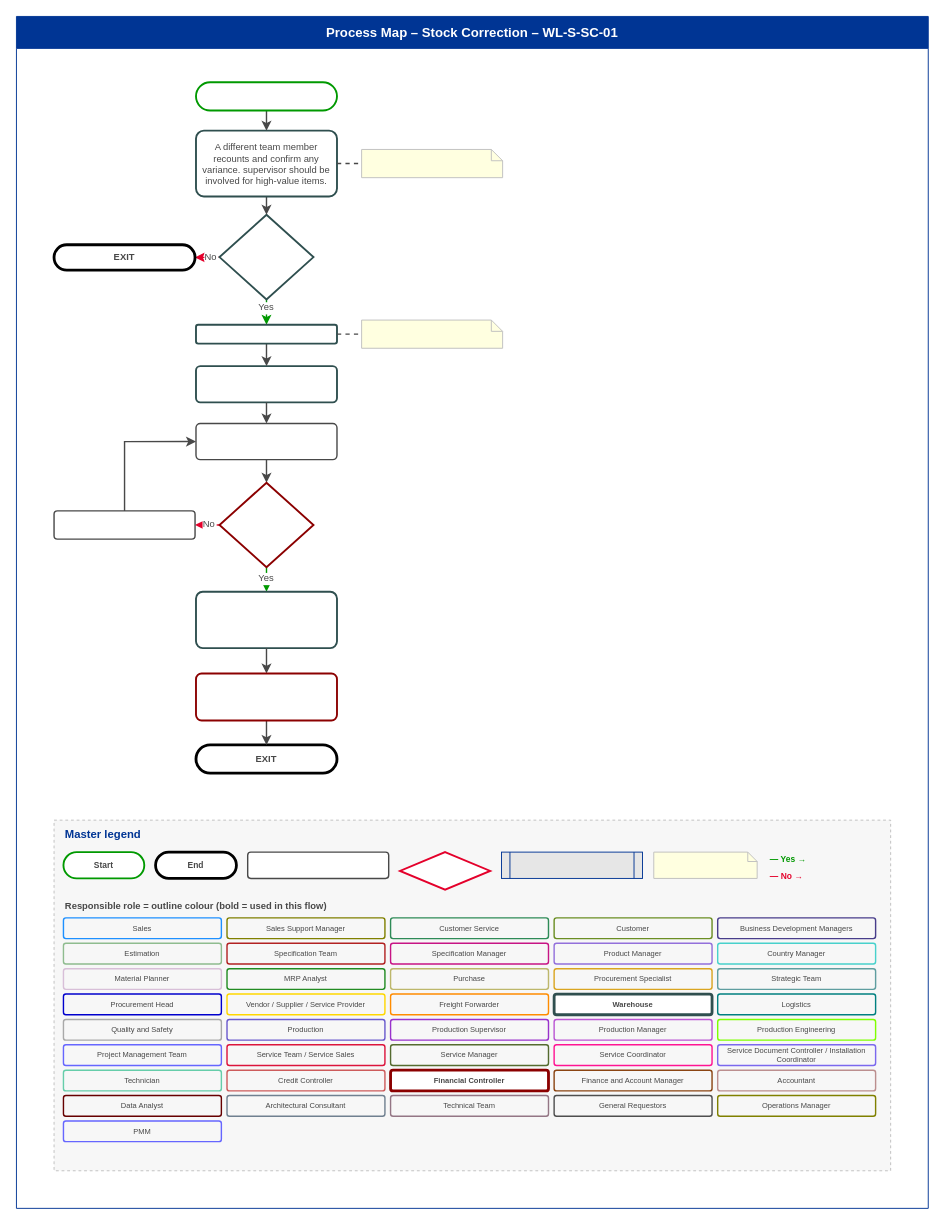
The diagram is 945 pixels wide and 1225 high, and some of its shapes have lost their labels. The shapes that lost their labels are listed below. From the top down, each one's box as (x1, y1, x2, y2) in pixels, then its label:
(195, 81, 337, 111): CORRECTION
(361, 149, 503, 178): Report comparing system vs physical stock.
(218, 213, 314, 300): Descripency confirmed ?
(195, 323, 337, 344): Perform Root Cause Analysis
(361, 319, 503, 348): Document findings for high variances in a case study.
(195, 365, 337, 403): Share RCA review and approved by Supervisor and Share with Manager
(195, 422, 337, 460): Share the RCA & Report with DVP & Financial Controller
(53, 510, 195, 539): Provide Request information
(218, 481, 314, 568): Correction APPROVED ?
(195, 590, 337, 649): Supervisor Updates Stock in SAP Share reference Document number with Finance
(195, 672, 337, 721): Finance document change and Update Stock price if necessary
(247, 851, 389, 879): Activity (outline = role)
(399, 851, 491, 890): Decision
(501, 851, 642, 878): Linked process (Ref ID)
(653, 851, 757, 878): Note / checklist
